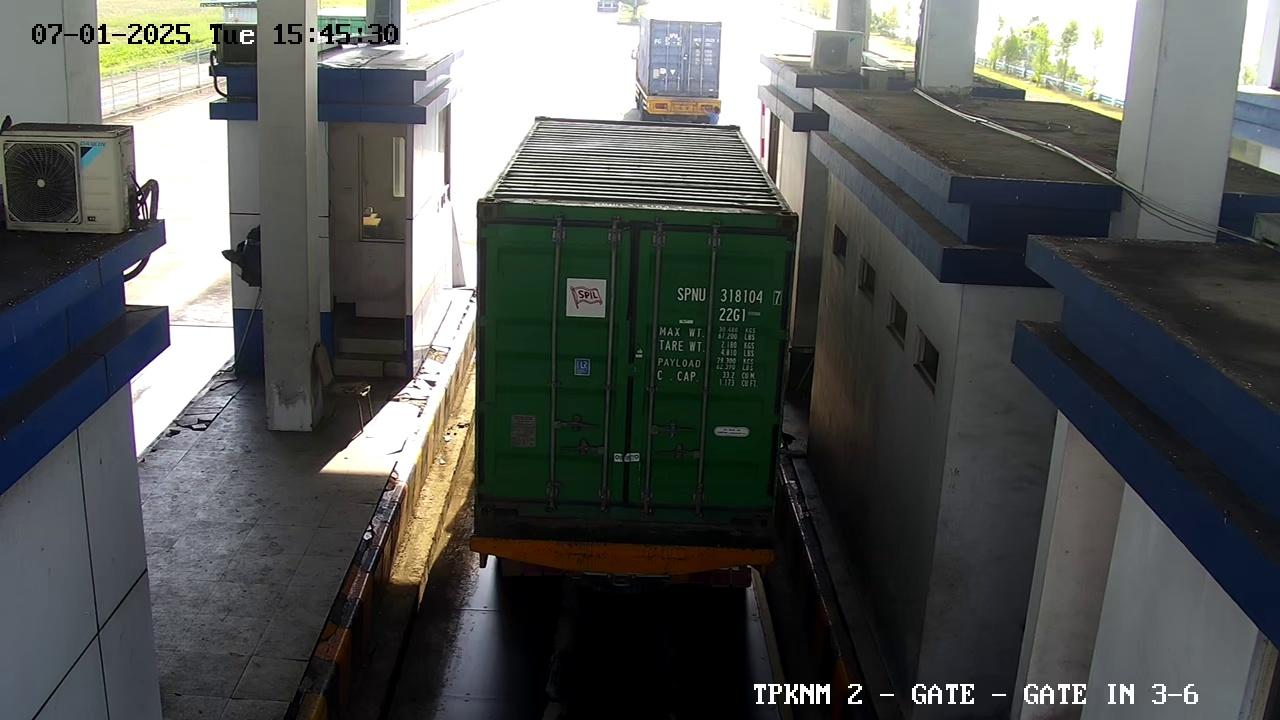Container_ID: (654, 277, 794, 328)
